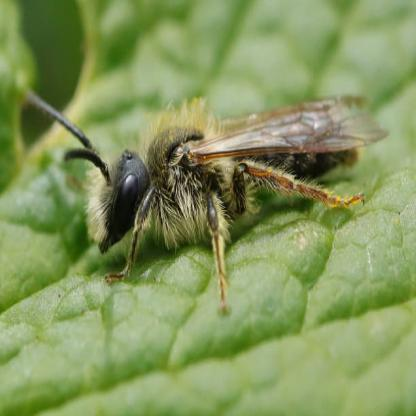sawfly: (46, 77, 391, 305)
